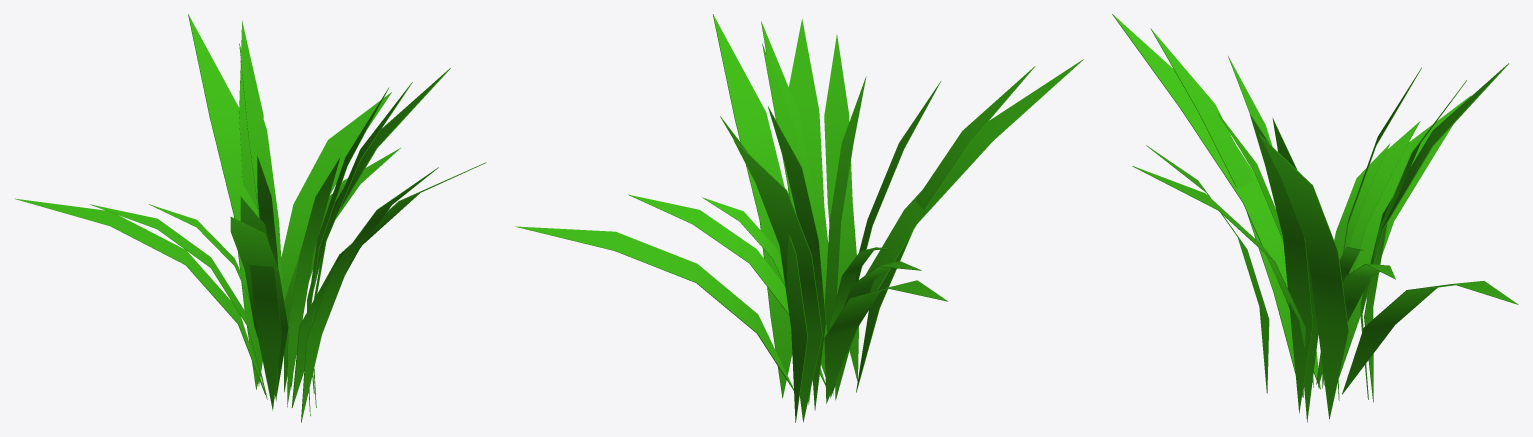
File: Grass.fbx
3 views of the same model, side by side, from view 1: azimuth 30°, elevation 25°; view 2: azimuth 150°, elevation 25°; view 3: azimuth 270°, elevation 25° (orthographic). The views are drawn at different scales.
Parts seen in each view (by area): view 1: Grass2, Grass, Grass3; view 2: Grass2, Grass, Grass3; view 3: Grass2, Grass, Grass3.
Part boxes in pixels (left/top/right/bottom): Grass2: left=15, top=14, right=486, bottom=407; Grass: left=90, top=21, right=438, bottom=422; Grass3: left=149, top=43, right=389, bottom=416; Grass2: left=515, top=14, right=1083, bottom=422; Grass: left=628, top=21, right=1035, bottom=422; Grass3: left=702, top=43, right=940, bottom=410; Grass2: left=1112, top=14, right=1518, bottom=418; Grass: left=1146, top=28, right=1466, bottom=412; Grass3: left=1218, top=56, right=1421, bottom=422.
Bounding box in the file's own units: 73.34 × 58.86 × 62.47.
